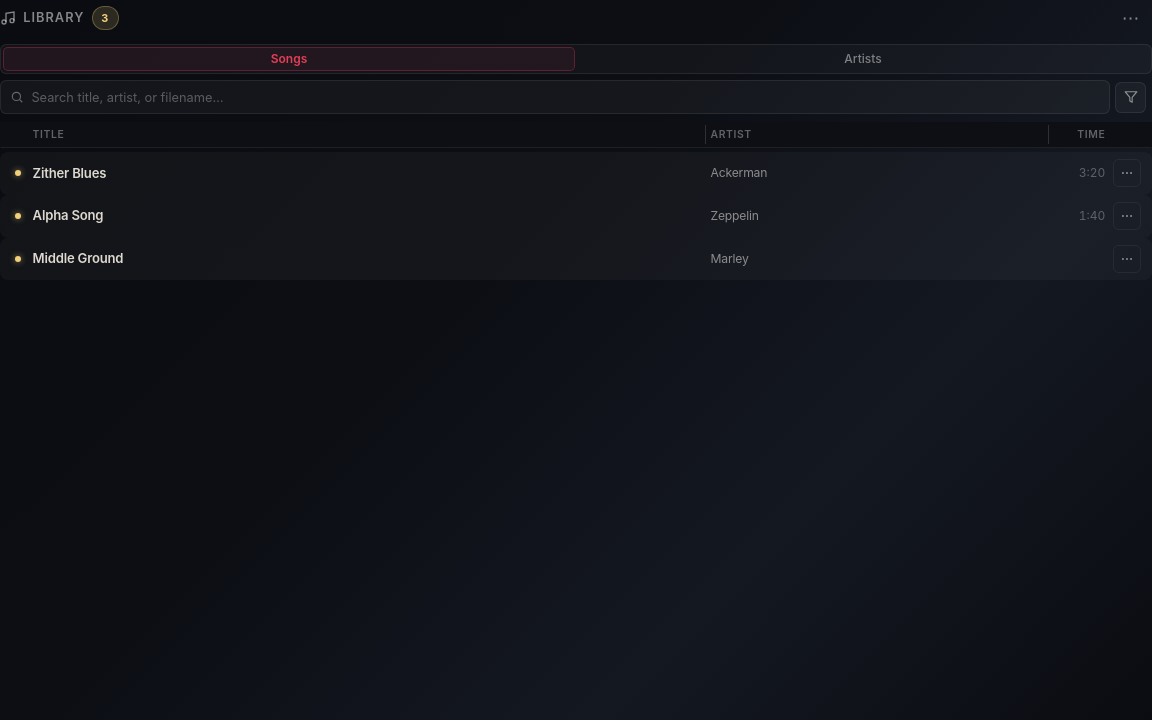
Test case: column visibility › refuses to hide the title column
Click the button with class "lib-menu__btn" at (1131, 18), box [1116, 3, 1146, 33]
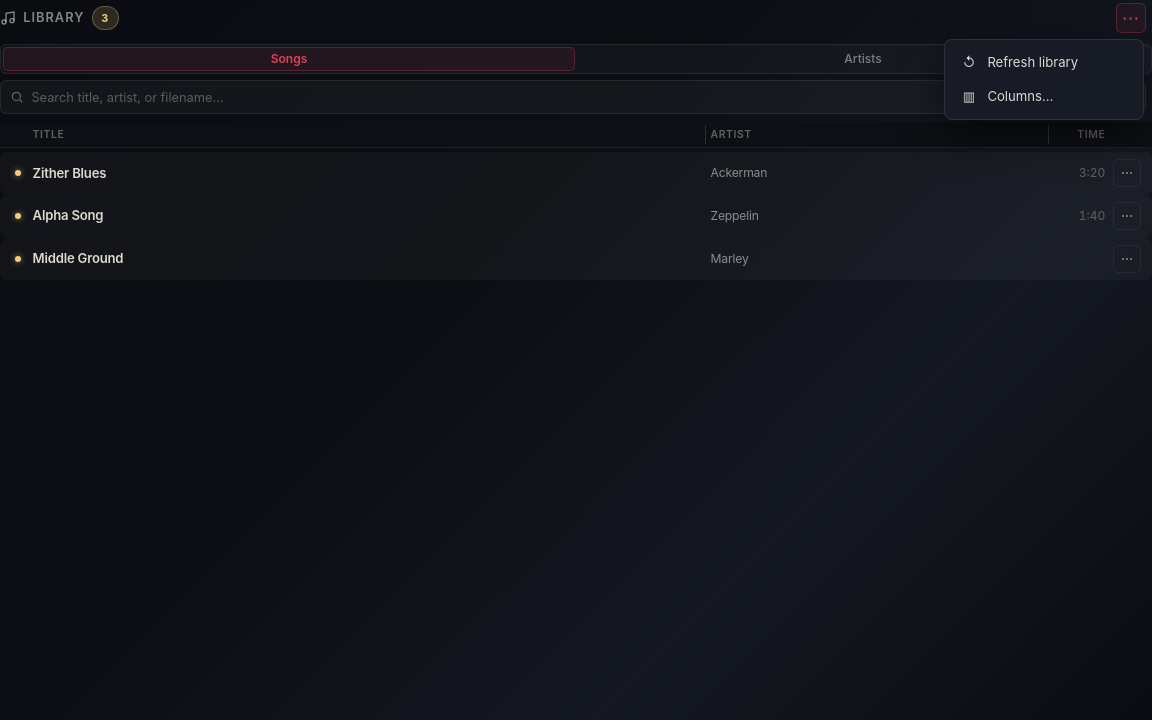
Click the menu item with class "lib-menu__columns" at (1044, 97), box [951, 80, 1137, 114]
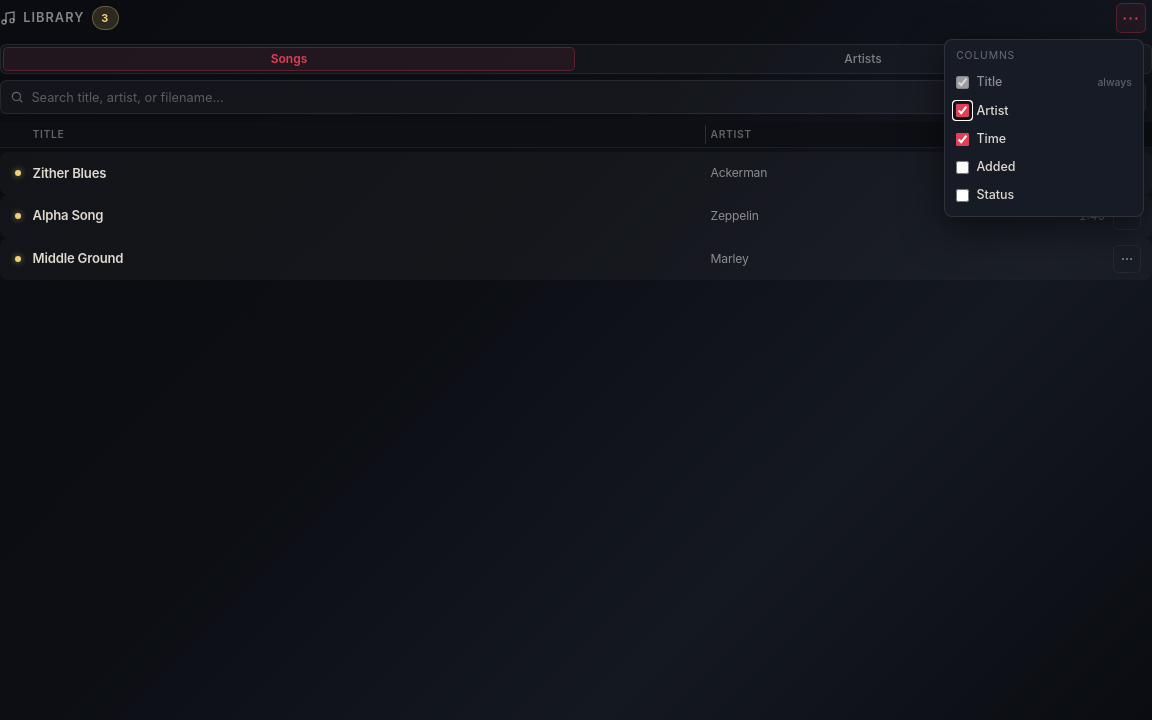
Result: the checkbox labelled "Title always" is disabled at [956, 76, 969, 89]
